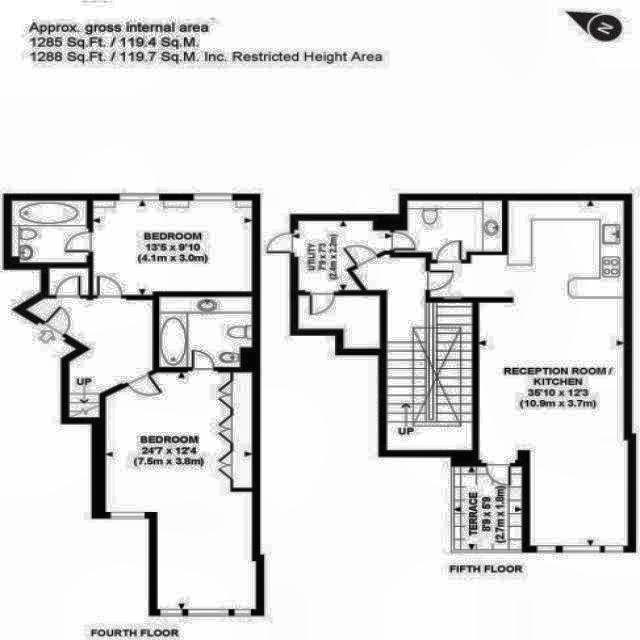room: (428, 198, 630, 550), (105, 372, 256, 609), (354, 254, 473, 451), (26, 299, 154, 419), (93, 201, 253, 292), (159, 296, 252, 368), (394, 200, 502, 261), (298, 220, 390, 291), (455, 466, 521, 550), (12, 200, 87, 262), (298, 295, 381, 349), (49, 268, 88, 295)
